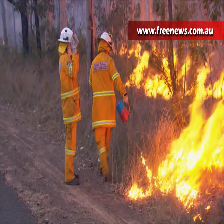fire_h: (128, 91, 224, 220), (121, 42, 173, 100), (196, 53, 223, 100), (177, 55, 190, 85)
fire_l: (173, 46, 178, 68), (181, 78, 187, 90), (193, 213, 201, 220), (205, 204, 210, 209)
